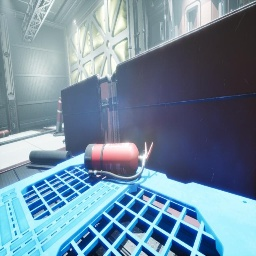EmergencyPhone ,: (237, 0, 250, 9)
FireExtinguisher ]: (84, 142, 153, 182)
NitrogenTank ,: (56, 97, 63, 132), (0, 130, 11, 138)
SafetySwitchPanel ,: (151, 44, 160, 49)
